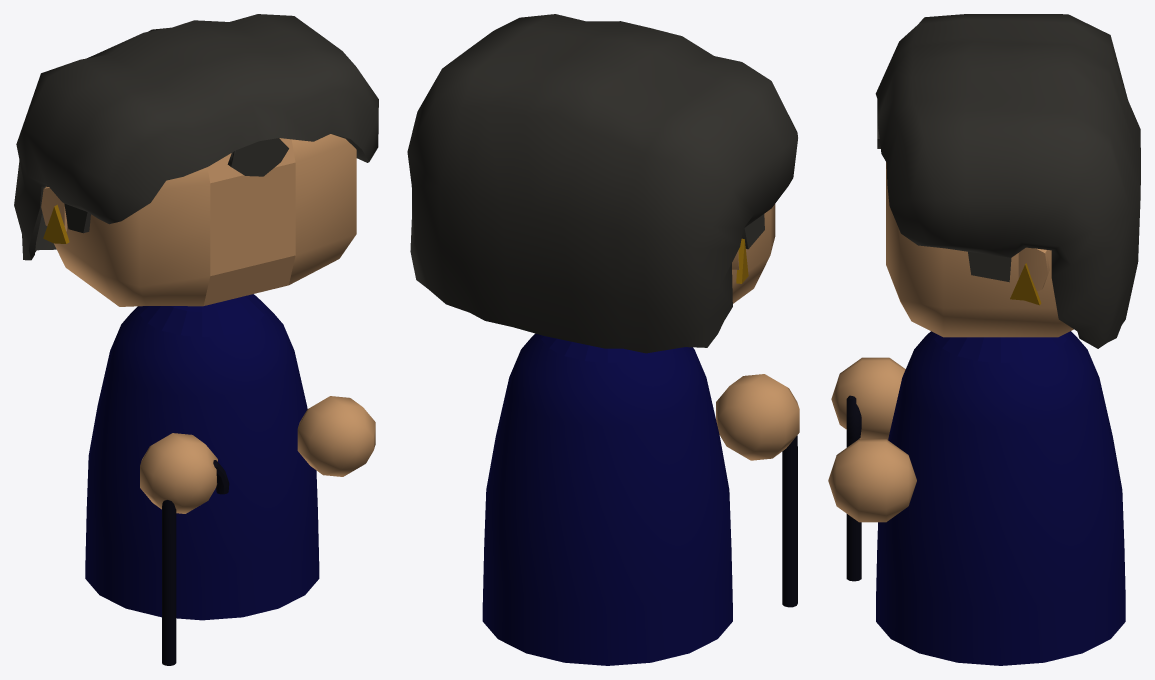
Rendered from Madre_low.fbx.
3 views of the same model, side by side, from view 1: azimuth 30°, elevation 25°; view 2: azimuth 150°, elevation 25°; view 3: azimuth 270°, elevation 25° (orthographic). The views are drawn at different scales.
Parts seen in each view (by area): view 1: Cylinder001, Plane001, Box001, Sphere001, Sphere002, Baston, Box003, Oreja L; view 2: Plane001, Cylinder001, Sphere002, Baston, Box001; view 3: Cylinder001, Plane001, Box001, Sphere001, Sphere002, Baston, Oreja R, Box004.
Boxes of the visible parts, bbox=[...] form: Cylinder001: bbox=[85, 294, 319, 620]; Plane001: bbox=[14, 14, 378, 260]; Box001: bbox=[45, 134, 356, 306]; Sphere001: bbox=[297, 396, 375, 476]; Sphere002: bbox=[140, 433, 217, 513]; Baston: bbox=[162, 460, 229, 665]; Box003: bbox=[43, 204, 69, 243]; Oreja L: bbox=[41, 187, 66, 231]; Plane001: bbox=[407, 14, 797, 353]; Cylinder001: bbox=[482, 333, 732, 665]; Sphere002: bbox=[716, 374, 799, 460]; Baston: bbox=[782, 435, 797, 607]; Box001: bbox=[732, 204, 775, 303]; Cylinder001: bbox=[876, 331, 1125, 665]; Plane001: bbox=[875, 14, 1140, 348]; Box001: bbox=[886, 162, 1073, 337]; Sphere001: bbox=[828, 439, 916, 522]; Sphere002: bbox=[831, 357, 905, 439]; Baston: bbox=[846, 395, 861, 581]; Oreja R: bbox=[1018, 247, 1049, 290]; Box004: bbox=[1010, 263, 1041, 305].
Size of the model in its own units: 0.0531 by 0.0446 by 0.0908.
